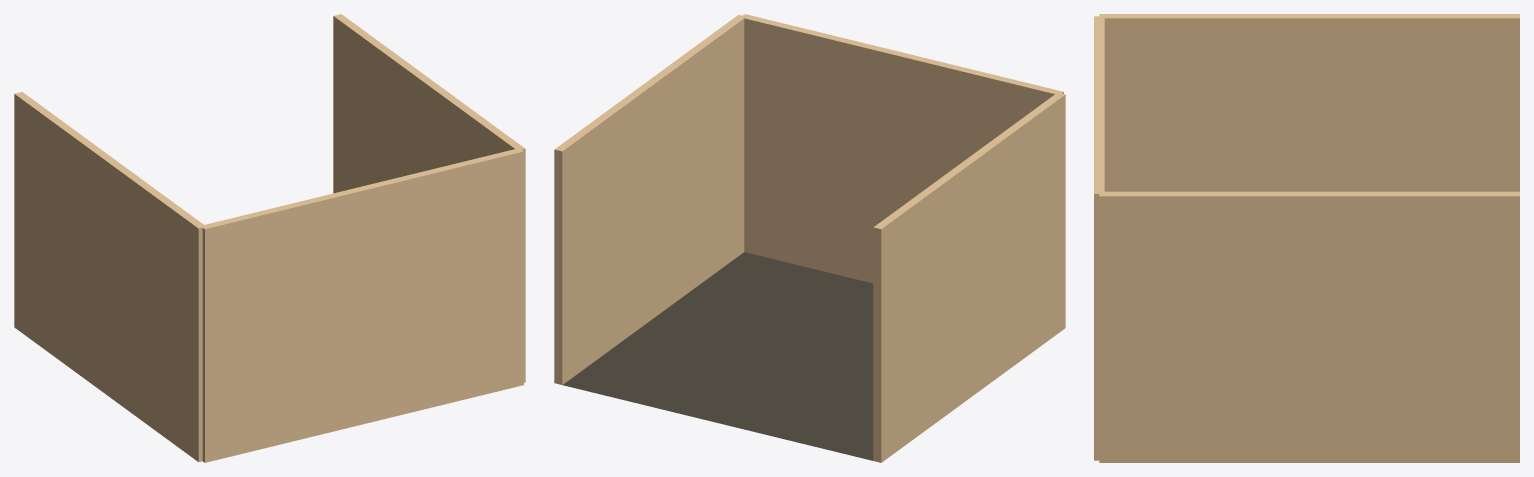
File: Building.fbx
The picture shows the model from 3 angles, left to right: view 1: azimuth 30°, elevation 25°; view 2: azimuth 150°, elevation 25°; view 3: azimuth 270°, elevation 25°; orthographic projection. The views are drawn at different scales.
Parts seen in each view (by area): view 1: Cube, Cube_2, Cube_1; view 2: Cube, Cube_2, Cube_1, Plane; view 3: Cube_1, Cube_2, Cube.
Boxes of the visible parts, box(x1,y1,x2,y2) form: Cube: box(201, 149, 523, 462); Cube_2: box(14, 92, 203, 462); Cube_1: box(333, 14, 525, 382); Cube: box(741, 14, 1063, 283); Cube_2: box(873, 93, 1065, 462); Cube_1: box(554, 14, 745, 384); Plane: box(562, 252, 873, 460); Cube_1: box(1099, 191, 1519, 462); Cube_2: box(1099, 14, 1519, 191); Cube: box(1094, 16, 1104, 460).
Bounding box in the file's own units: 410 × 280 × 405.
